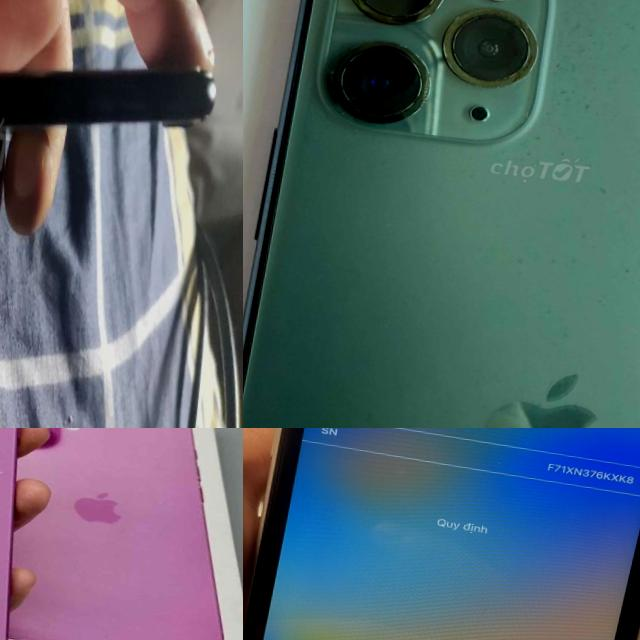gen_11: (243, 0, 640, 428)
gen_16: (0, 428, 57, 640)
gen_7_8: (0, 67, 215, 129)
gen_x_xs: (243, 428, 640, 640)
